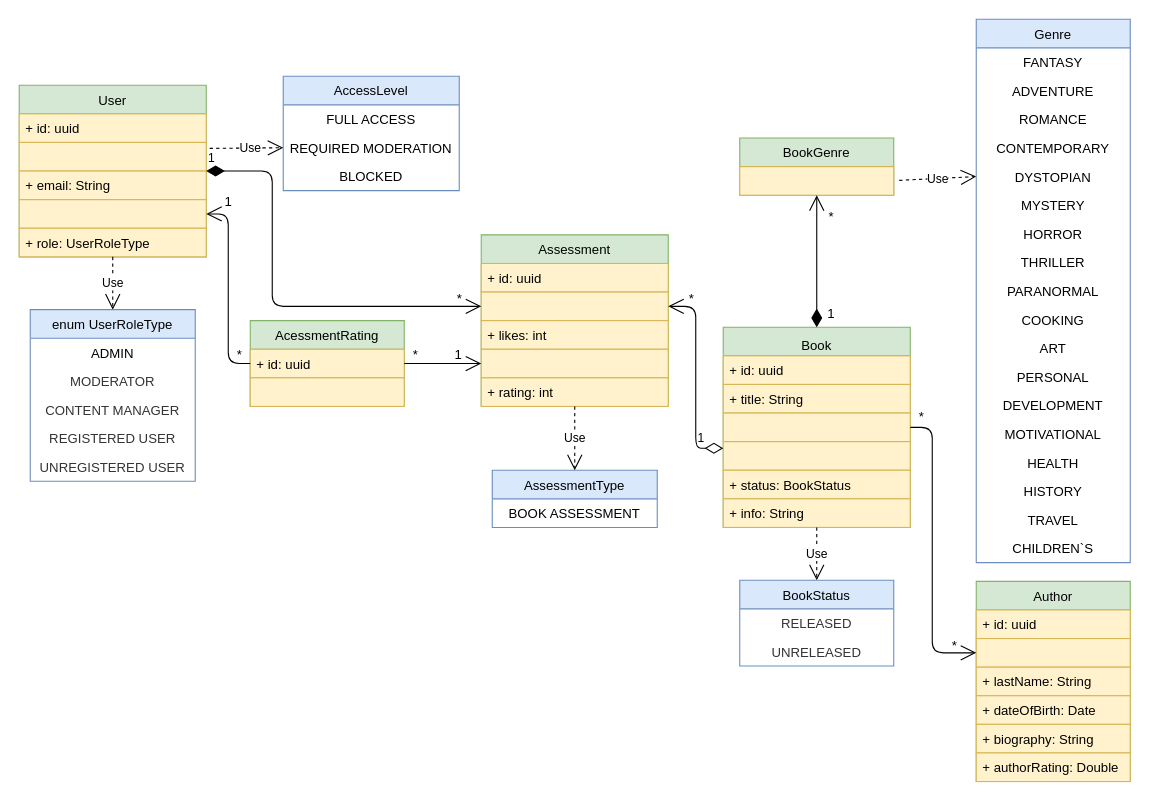
Some shapes in this 1150 by 804 pixel diagram are drawn without their labels. Here are the shapes that lost their labels. From the top down, the centre of each, then its label:
pixel 112 156: + userName: String
pixel 816 180: + genre: Genre
pixel 112 213: + access: AccessLevel
pixel 574 306: + type: AssessmentType
pixel 574 363: + comment: String
pixel 326 391: + likeStatus: boolean
pixel 816 427: + bookRating: double
pixel 816 455: + relizeDate: Date
pixel 1052 652: + firstName: String
